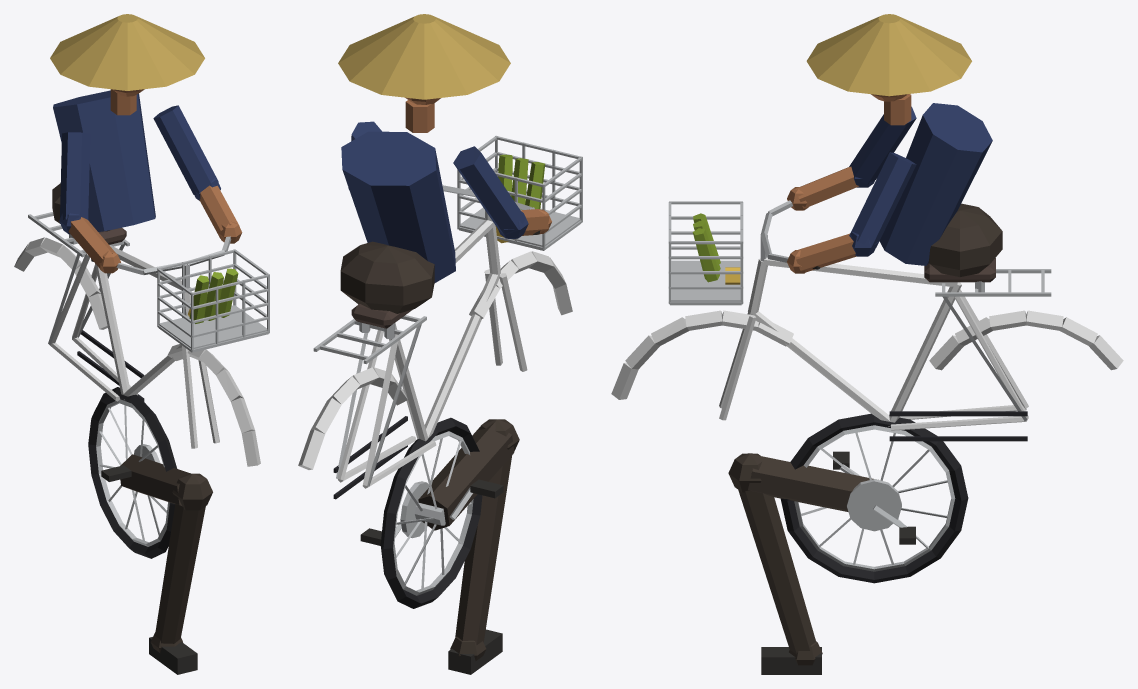
Rendered from bicycle.glb.
3 renders of one model, left to right at view 1: azimuth 30°, elevation 25°; view 2: azimuth 150°, elevation 25°; view 3: azimuth 270°, elevation 25°, orthographic. The views are drawn at different scales.
Visible parts, largest first — view 1: body, paint, wheel0, wheel2, wheel1; view 2: body, paint, wheel0, wheel2, wheel1; view 3: body, paint, wheel0, wheel2, wheel1.
Part boxes in pixels (x1,y1,x2,y2): body: (28, 14, 269, 401); paint: (14, 237, 260, 466); wheel0: (120, 454, 212, 674); wheel2: (88, 387, 177, 558); wheel1: (101, 444, 160, 481); body: (313, 14, 582, 499); paint: (298, 220, 572, 488); wheel0: (418, 419, 519, 674); wheel2: (380, 417, 482, 608); wheel1: (360, 479, 503, 545); body: (668, 14, 1051, 441); paint: (611, 257, 1123, 430); wheel0: (728, 453, 878, 674); wheel2: (780, 413, 968, 583); wheel1: (833, 451, 915, 544).
Size of the model in its own units: 0.69 by 2.6 by 1.85.
